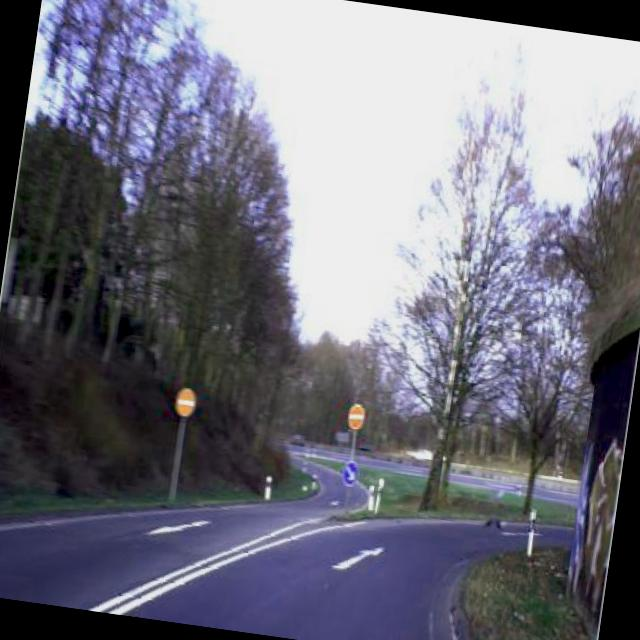Zakaz wjazdu: (172, 383, 200, 423), (344, 401, 368, 433)
